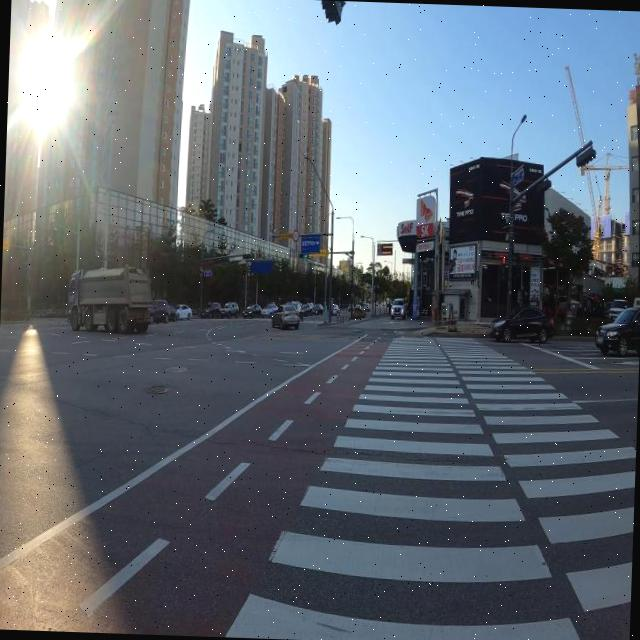crosswalk: (226, 334, 636, 640), (178, 317, 333, 323)
